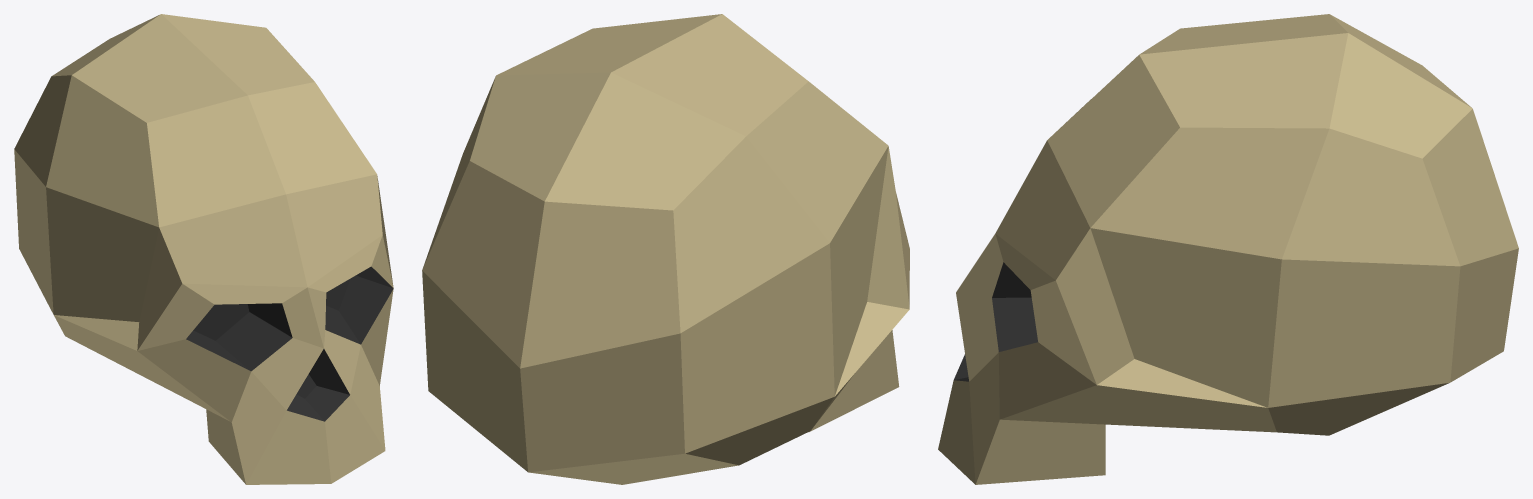
Rendered from skull-human.fbx.
3 renders of one model, left to right at view 1: azimuth 30°, elevation 25°; view 2: azimuth 150°, elevation 25°; view 3: azimuth 270°, elevation 25°, orthographic. The views are drawn at different scales.
Visible parts, largest first — view 1: skull-human; view 2: skull-human; view 3: skull-human.
Boxes of the visible parts, left/top/right/bottom form: skull-human: left=14, top=14, right=393, bottom=484; skull-human: left=422, top=14, right=909, bottom=484; skull-human: left=938, top=14, right=1518, bottom=484.
Size of the model in its own units: 0.3192 by 0.4662 by 0.3701.
